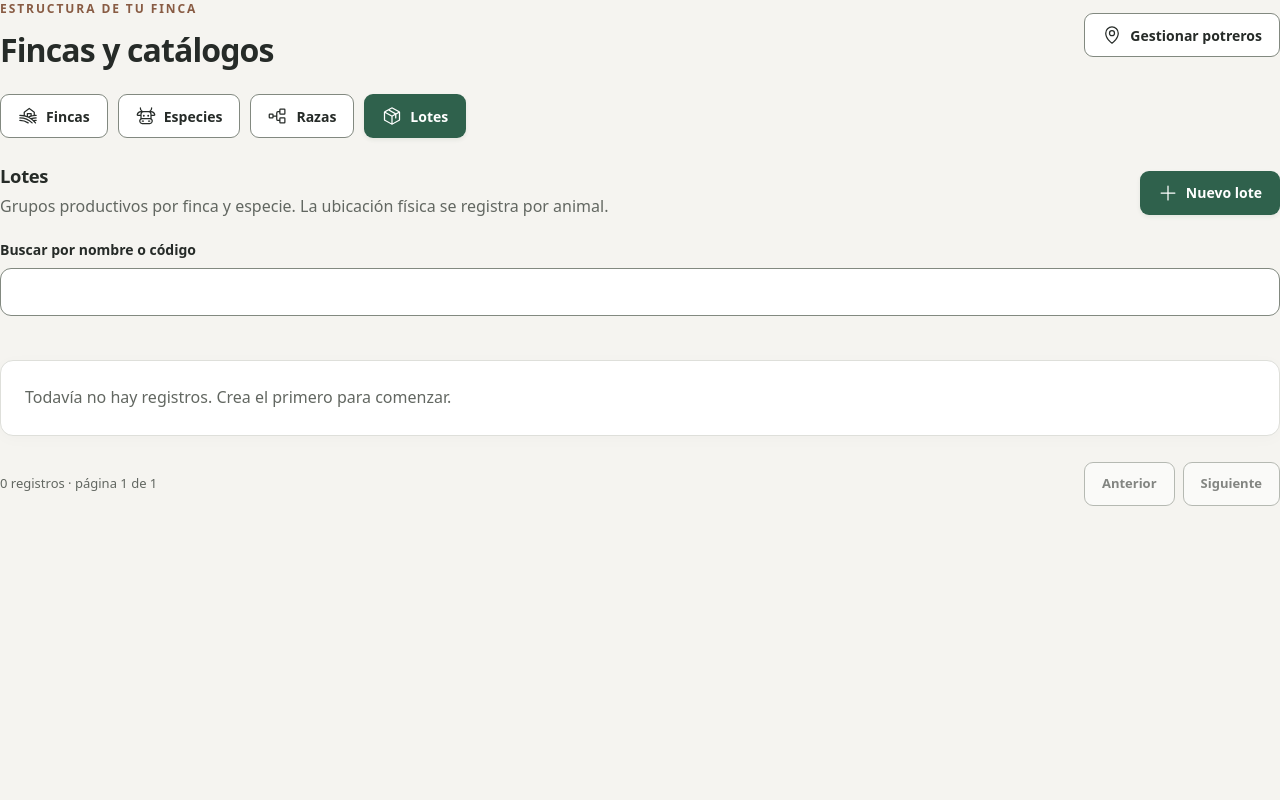
it: creates a lots record through its protected endpoint
The width and height of the screenshot is (1280, 800).
Click the button "Nuevo lote".
click(1210, 193)  # box x1=1140 y1=171 x2=1279 y2=215
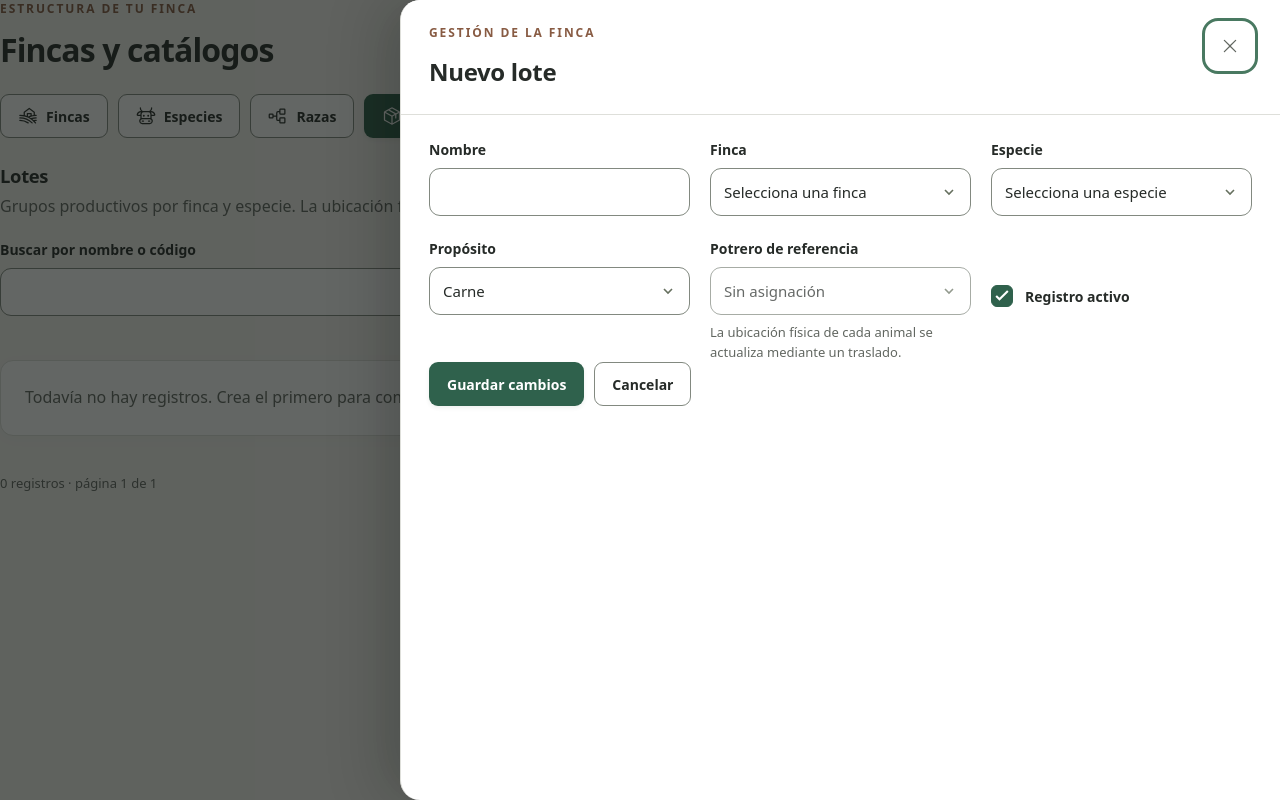
Type "Registro nuevo" into the field labelled "Nombre".
click(560, 192); type("Registro nuevo")  # box x1=429 y1=168 x2=690 y2=216
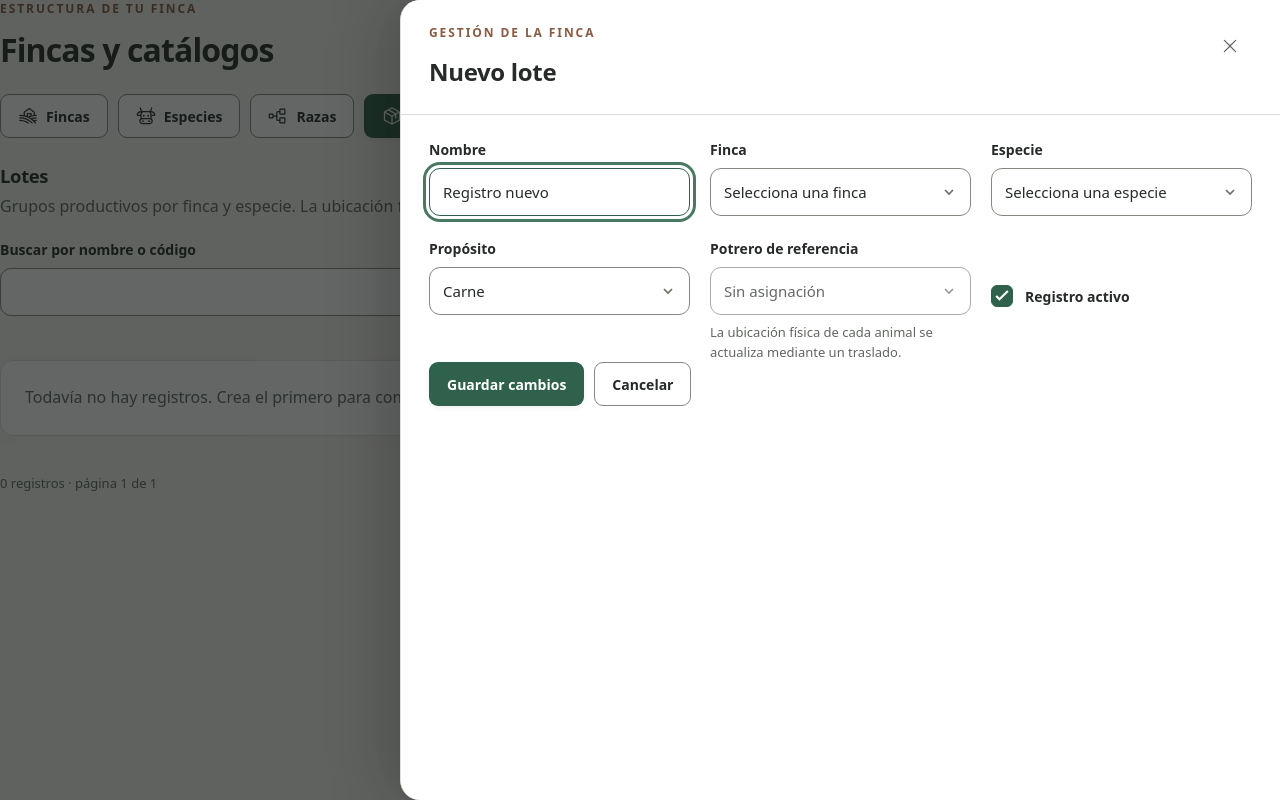
Select "Bovino" in the dropdown labelled "Especie" at (1122, 192), box x1=991 y1=168 x2=1252 y2=216
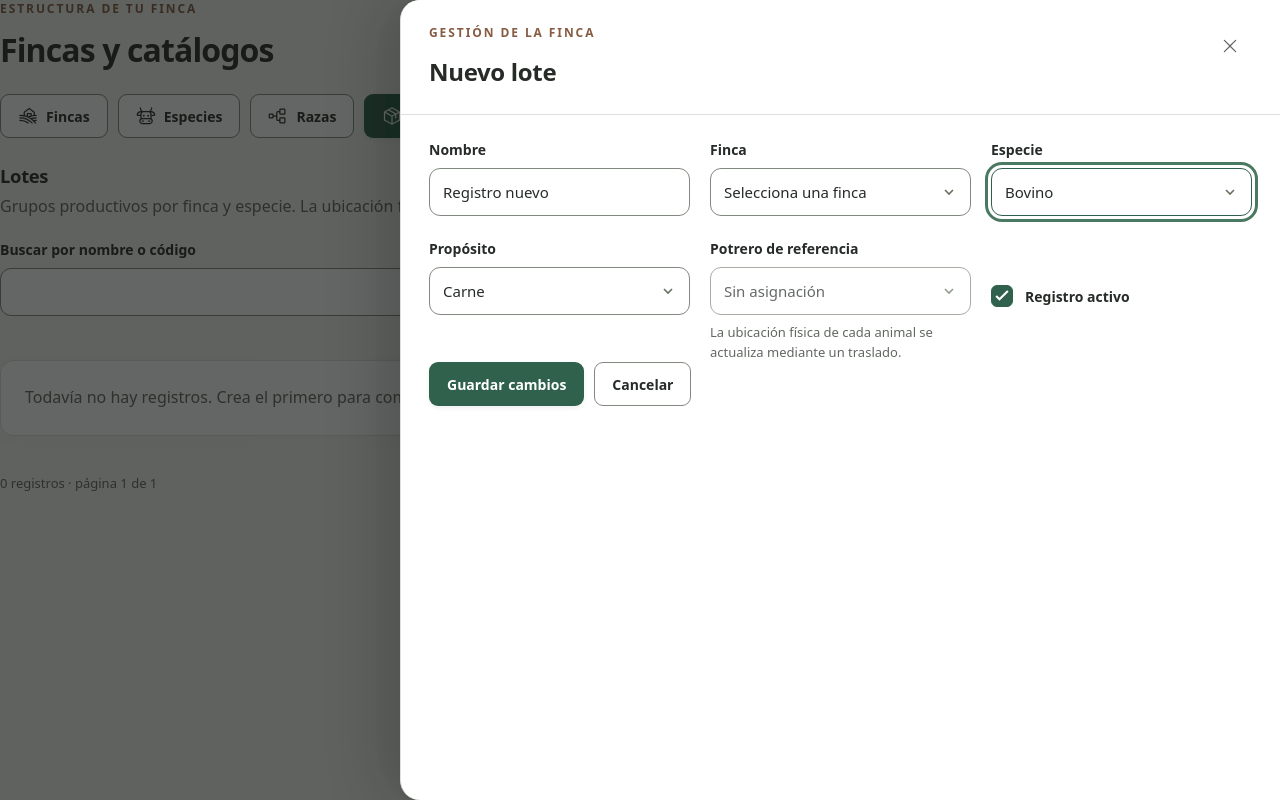
Select "Finca A" in the dropdown labelled "Finca" at (840, 192), box x1=710 y1=168 x2=971 y2=216
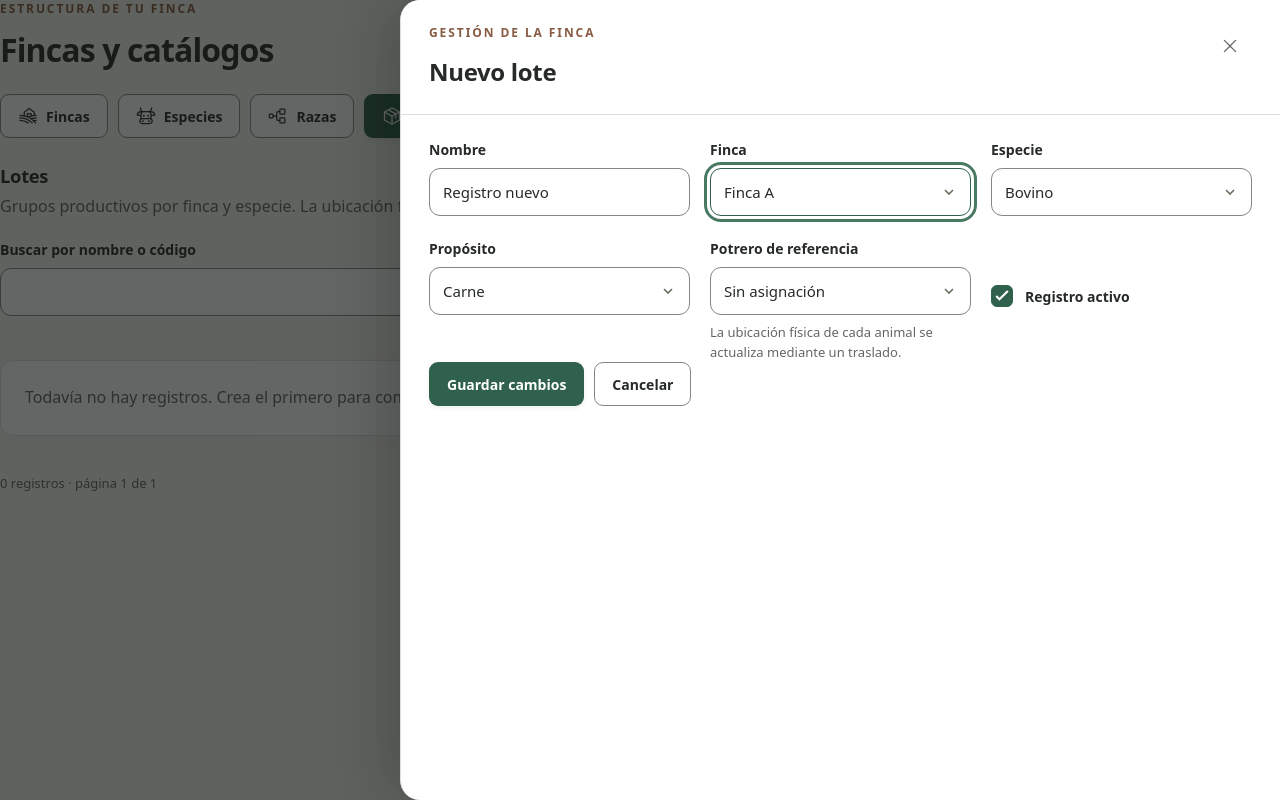
Click the button "Guardar cambios".
click(507, 384)  # box x1=429 y1=362 x2=584 y2=406
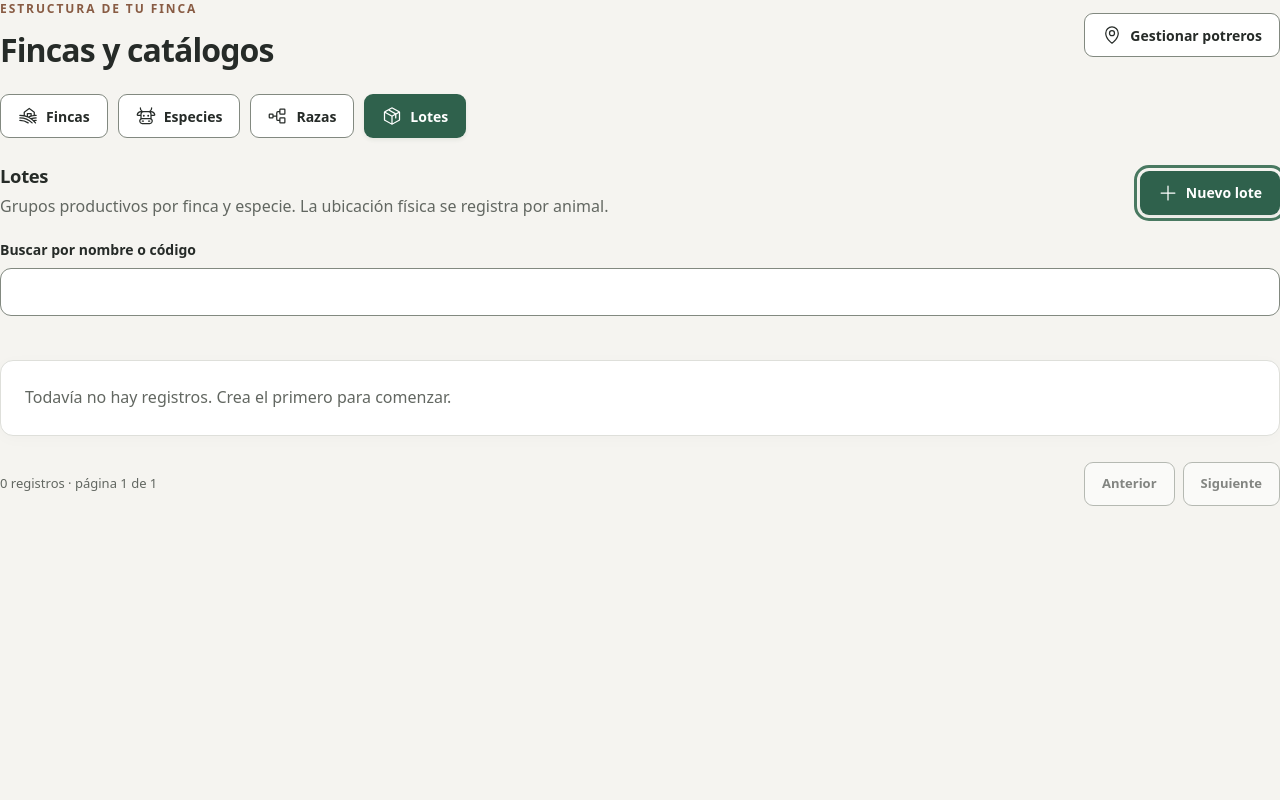
Result: the dialog is gone
